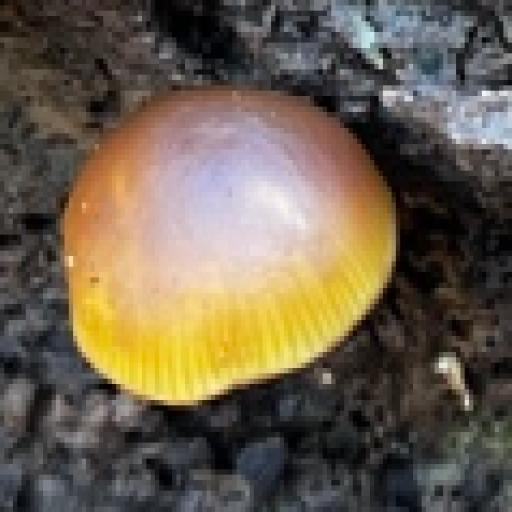mushroom: (0, 20, 447, 465)
